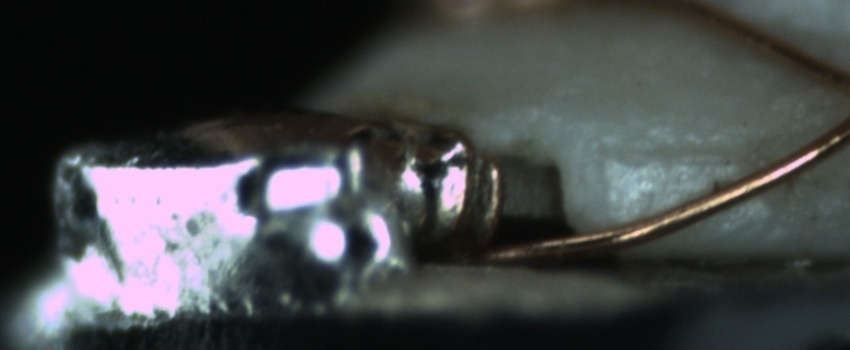DL: (599, 124, 734, 186)
TE: (424, 116, 511, 251)
